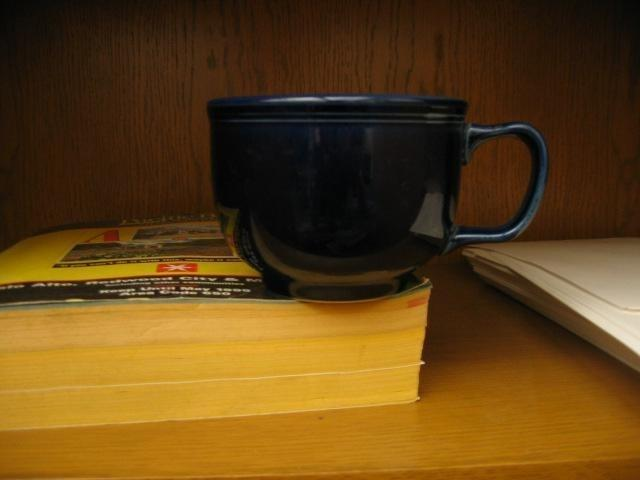cup-handle: (206, 94, 551, 301)
